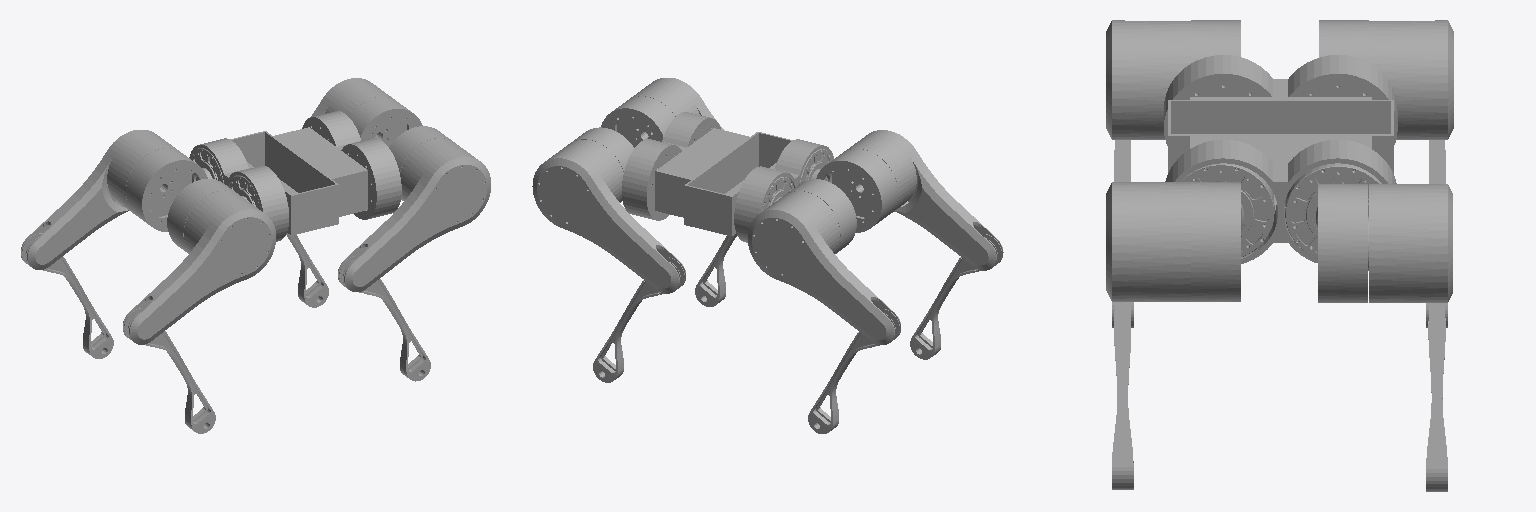
URDF robot description (vakra):
<?xml version="1.0" encoding="utf-8"?>
<!-- =================================================================================== -->
<!-- |    This document was autogenerated by xacro from vakra.xacro                    | -->
<!-- |    EDITING THIS FILE BY HAND IS NOT RECOMMENDED                                 | -->
<!-- =================================================================================== -->
<robot name="vakra">
  <material name="silver">
    <color rgba="0.700 0.700 0.700 1.000"/>
  </material>
  <transmission name="rff_tran">
    <type>transmission_interface/SimpleTransmission</type>
    <joint name="rff">
      <hardwareInterface>hardware_interface/EffortJointInterface</hardwareInterface>
    </joint>
    <actuator name="rff_actr">
      <hardwareInterface>hardware_interface/EffortJointInterface</hardwareInterface>
      <mechanicalReduction>1</mechanicalReduction>
    </actuator>
  </transmission>
  <transmission name="rfs_tran">
    <type>transmission_interface/SimpleTransmission</type>
    <joint name="rfs">
      <hardwareInterface>hardware_interface/EffortJointInterface</hardwareInterface>
    </joint>
    <actuator name="rfs_actr">
      <hardwareInterface>hardware_interface/EffortJointInterface</hardwareInterface>
      <mechanicalReduction>1</mechanicalReduction>
    </actuator>
  </transmission>
  <transmission name="lff_tran">
    <type>transmission_interface/SimpleTransmission</type>
    <joint name="lff">
      <hardwareInterface>hardware_interface/EffortJointInterface</hardwareInterface>
    </joint>
    <actuator name="lff_actr">
      <hardwareInterface>hardware_interface/EffortJointInterface</hardwareInterface>
      <mechanicalReduction>1</mechanicalReduction>
    </actuator>
  </transmission>
  <transmission name="lfs_tran">
    <type>transmission_interface/SimpleTransmission</type>
    <joint name="lfs">
      <hardwareInterface>hardware_interface/EffortJointInterface</hardwareInterface>
    </joint>
    <actuator name="lfs_actr">
      <hardwareInterface>hardware_interface/EffortJointInterface</hardwareInterface>
      <mechanicalReduction>1</mechanicalReduction>
    </actuator>
  </transmission>
  <transmission name="rbf_tran">
    <type>transmission_interface/SimpleTransmission</type>
    <joint name="rbf">
      <hardwareInterface>hardware_interface/EffortJointInterface</hardwareInterface>
    </joint>
    <actuator name="rbf_actr">
      <hardwareInterface>hardware_interface/EffortJointInterface</hardwareInterface>
      <mechanicalReduction>1</mechanicalReduction>
    </actuator>
  </transmission>
  <transmission name="rbs_tran">
    <type>transmission_interface/SimpleTransmission</type>
    <joint name="rbs">
      <hardwareInterface>hardware_interface/EffortJointInterface</hardwareInterface>
    </joint>
    <actuator name="rbs_actr">
      <hardwareInterface>hardware_interface/EffortJointInterface</hardwareInterface>
      <mechanicalReduction>1</mechanicalReduction>
    </actuator>
  </transmission>
  <transmission name="lbf_tran">
    <type>transmission_interface/SimpleTransmission</type>
    <joint name="lbf">
      <hardwareInterface>hardware_interface/EffortJointInterface</hardwareInterface>
    </joint>
    <actuator name="lbf_actr">
      <hardwareInterface>hardware_interface/EffortJointInterface</hardwareInterface>
      <mechanicalReduction>1</mechanicalReduction>
    </actuator>
  </transmission>
  <transmission name="lbs_tran">
    <type>transmission_interface/SimpleTransmission</type>
    <joint name="lbs">
      <hardwareInterface>hardware_interface/EffortJointInterface</hardwareInterface>
    </joint>
    <actuator name="lbs_actr">
      <hardwareInterface>hardware_interface/EffortJointInterface</hardwareInterface>
      <mechanicalReduction>1</mechanicalReduction>
    </actuator>
  </transmission>
  <transmission name="lft_tran">
    <type>transmission_interface/SimpleTransmission</type>
    <joint name="lft">
      <hardwareInterface>hardware_interface/EffortJointInterface</hardwareInterface>
    </joint>
    <actuator name="lft_actr">
      <hardwareInterface>hardware_interface/EffortJointInterface</hardwareInterface>
      <mechanicalReduction>1</mechanicalReduction>
    </actuator>
  </transmission>
  <transmission name="lbt_tran">
    <type>transmission_interface/SimpleTransmission</type>
    <joint name="lbt">
      <hardwareInterface>hardware_interface/EffortJointInterface</hardwareInterface>
    </joint>
    <actuator name="lbt_actr">
      <hardwareInterface>hardware_interface/EffortJointInterface</hardwareInterface>
      <mechanicalReduction>1</mechanicalReduction>
    </actuator>
  </transmission>
  <transmission name="rbt_tran">
    <type>transmission_interface/SimpleTransmission</type>
    <joint name="rbt">
      <hardwareInterface>hardware_interface/EffortJointInterface</hardwareInterface>
    </joint>
    <actuator name="rbt_actr">
      <hardwareInterface>hardware_interface/EffortJointInterface</hardwareInterface>
      <mechanicalReduction>1</mechanicalReduction>
    </actuator>
  </transmission>
  <transmission name="rft_tran">
    <type>transmission_interface/SimpleTransmission</type>
    <joint name="rft">
      <hardwareInterface>hardware_interface/EffortJointInterface</hardwareInterface>
    </joint>
    <actuator name="rft_actr">
      <hardwareInterface>hardware_interface/EffortJointInterface</hardwareInterface>
      <mechanicalReduction>1</mechanicalReduction>
    </actuator>
  </transmission>
  <gazebo reference="base_link">
    <material>Gazebo/Black</material>
  </gazebo>
  <gazebo reference="femur1__1__1">
    <material>Gazebo/Blue</material>
  </gazebo>
  <gazebo reference="Shoulder1__1__1">
    <material>Gazebo/Green</material>
  </gazebo>
  <gazebo reference="femur1_1">
    <material>Gazebo/Blue</material>
  </gazebo>
  <gazebo reference="Shoulder1_1">
    <material>Gazebo/Green</material>
  </gazebo>
  <gazebo reference="femur2__1__1">
    <material>Gazebo/Blue</material>
  </gazebo>
  <gazebo reference="Shoulder2__1__1">
    <material>Gazebo/Green</material>
  </gazebo>
  <gazebo reference="femur2_1">
    <material>Gazebo/Blue</material>
  </gazebo>
  <gazebo reference="Shoulder2_1">
    <material>Gazebo/Green</material>
  </gazebo>
  <gazebo reference="tibia1_1">
    <material>Gazebo/Silver</material>
  </gazebo>
  <gazebo reference="tibia2_1">
    <material>Gazebo/Silver</material>
  </gazebo>
  <gazebo reference="tibia2__1__1">
    <material>Gazebo/Silver</material>
  </gazebo>
  <gazebo reference="tibia1__1__1">
    <material>Gazebo/Silver</material>
  </gazebo>
  <gazebo reference="base_link">
    <mu1>0.5</mu1>
    <mu2>0.5</mu2>
    <selfCollide>true</selfCollide>
    <gravity>true</gravity>
  </gazebo>
  <gazebo reference="femur1__1__1">
    <mu1>0.5</mu1>
    <mu2>0.5</mu2>
    <selfCollide>true</selfCollide>
  </gazebo>
  <gazebo reference="Shoulder1__1__1">
    <mu1>0.5</mu1>
    <mu2>0.5</mu2>
    <selfCollide>true</selfCollide>
  </gazebo>
  <gazebo reference="femur1_1">
    <mu1>0.5</mu1>
    <mu2>0.5</mu2>
    <selfCollide>true</selfCollide>
  </gazebo>
  <gazebo reference="Shoulder1_1">
    <mu1>0.5</mu1>
    <mu2>0.5</mu2>
    <selfCollide>true</selfCollide>
  </gazebo>
  <gazebo reference="femur2__1__1">
    <mu1>0.5</mu1>
    <mu2>0.5</mu2>
    <selfCollide>true</selfCollide>
  </gazebo>
  <gazebo reference="Shoulder2__1__1">
    <mu1>0.5</mu1>
    <mu2>0.5</mu2>
    <selfCollide>true</selfCollide>
  </gazebo>
  <gazebo reference="femur2_1">
    <mu1>0.5</mu1>
    <mu2>0.5</mu2>
    <selfCollide>true</selfCollide>
  </gazebo>
  <gazebo reference="Shoulder2_1">
    <mu1>0.5</mu1>
    <mu2>0.5</mu2>
    <selfCollide>true</selfCollide>
  </gazebo>
  <gazebo reference="tibia1_1">
    <mu1>200</mu1>
    <mu2>200</mu2>
    <selfCollide>true</selfCollide>
  </gazebo>
  <gazebo reference="tibia2_1">
    <mu1>200</mu1>
    <mu2>200</mu2>
    <selfCollide>true</selfCollide>
  </gazebo>
  <gazebo reference="tibia2__1__1">
    <mu1>200</mu1>
    <mu2>200</mu2>
    <selfCollide>true</selfCollide>
  </gazebo>
  <gazebo reference="tibia1__1__1">
    <mu1>200</mu1>
    <mu2>200</mu2>
    <selfCollide>true</selfCollide>
  </gazebo>
  <gazebo>
    <plugin filename="libgazebo_ros_control.so" name="control">
      <robotNamespace>/vakra</robotNamespace>
    </plugin>
  </gazebo>
  <link name="base_link">
    <inertial>
      <origin rpy="0 0 0" xyz="0.01651650630396252 -0.039387864784774386 0.2781670624228419"/>
      <mass value="2.379664751421723"/>
      <inertia ixx="0.011528" ixy="-3.2e-05" ixz="-0.000126" iyy="0.017554" iyz="4e-06" izz="0.024797"/>
    </inertial>
    <visual>
      <origin rpy="0 0 0" xyz="0 0 0"/>
      <geometry>
        <mesh filename="package://vakra_description/meshes/base_link.stl" scale="0.001 0.001 0.001"/>
      </geometry>
      <material name="silver"/>
    </visual>
    <collision>
      <origin rpy="0 0 0" xyz="0 0 0"/>
      <geometry>
        <mesh filename="package://vakra_description/meshes/base_link.stl" scale="0.001 0.001 0.001"/>
      </geometry>
    </collision>
  </link>
  <link name="femur1__1__1">
    <inertial>
      <origin rpy="0 0 0" xyz="-0.024333693559157793 -0.05106487776966842 -0.014045576694845352"/>
      <mass value="1.0823056277172005"/>
      <inertia ixx="0.00269" ixy="-0.000566" ixz="-0.001355" iyy="0.004988" iyz="-0.000327" izz="0.004254"/>
    </inertial>
    <visual>
      <origin rpy="0 0 0" xyz="-0.19536 0.112739 -0.280574"/>
      <geometry>
        <mesh filename="package://vakra_description/meshes/femur1__1__1.stl" scale="0.001 0.001 0.001"/>
      </geometry>
      <material name="silver"/>
    </visual>
    <collision>
      <origin rpy="0 0 0" xyz="-0.19536 0.112739 -0.280574"/>
      <geometry>
        <mesh filename="package://vakra_description/meshes/femur1__1__1.stl" scale="0.001 0.001 0.001"/>
      </geometry>
    </collision>
  </link>
  <link name="Shoulder1__1__1">
    <inertial>
      <origin rpy="0 0 0" xyz="0.05523873032400456 -0.003595547119901385 4.5635929407650266e-07"/>
      <mass value="0.29461843575635877"/>
      <inertia ixx="0.000442" ixy="-7e-06" ixz="0.0" iyy="0.000747" iyz="0.0" izz="0.000451"/>
    </inertial>
    <visual>
      <origin rpy="0 0 0" xyz="-0.14036 0.094239 -0.280574"/>
      <geometry>
        <mesh filename="package://vakra_description/meshes/Shoulder1__1__1.stl" scale="0.001 0.001 0.001"/>
      </geometry>
      <material name="silver"/>
    </visual>
    <collision>
      <origin rpy="0 0 0" xyz="-0.14036 0.094239 -0.280574"/>
      <geometry>
        <mesh filename="package://vakra_description/meshes/Shoulder1__1__1.stl" scale="0.001 0.001 0.001"/>
      </geometry>
    </collision>
  </link>
  <link name="femur1_1">
    <inertial>
      <origin rpy="0 0 0" xyz="-0.02433104362846289 0.05106454360242882 -0.014050736146083265"/>
      <mass value="1.0823056277172005"/>
      <inertia ixx="0.00269" ixy="0.000566" ixz="-0.001355" iyy="0.004988" iyz="0.000327" izz="0.004254"/>
    </inertial>
    <visual>
      <origin rpy="0 0 0" xyz="-0.195398 -0.032057 -0.279121"/>
      <geometry>
        <mesh filename="package://vakra_description/meshes/femur1_1.stl" scale="0.001 0.001 0.001"/>
      </geometry>
      <material name="silver"/>
    </visual>
    <collision>
      <origin rpy="0 0 0" xyz="-0.195398 -0.032057 -0.279121"/>
      <geometry>
        <mesh filename="package://vakra_description/meshes/femur1_1.stl" scale="0.001 0.001 0.001"/>
      </geometry>
    </collision>
  </link>
  <link name="Shoulder1_1">
    <inertial>
      <origin rpy="0 0 0" xyz="0.05523855175032666 0.003595212952661162 9.8001096682232e-08"/>
      <mass value="0.29461843575635877"/>
      <inertia ixx="0.000442" ixy="7e-06" ixz="-0.0" iyy="0.000747" iyz="0.0" izz="0.000451"/>
    </inertial>
    <visual>
      <origin rpy="0 0 0" xyz="-0.140398 -0.013557 -0.279121"/>
      <geometry>
        <mesh filename="package://vakra_description/meshes/Shoulder1_1.stl" scale="0.001 0.001 0.001"/>
      </geometry>
      <material name="silver"/>
    </visual>
    <collision>
      <origin rpy="0 0 0" xyz="-0.140398 -0.013557 -0.279121"/>
      <geometry>
        <mesh filename="package://vakra_description/meshes/Shoulder1_1.stl" scale="0.001 0.001 0.001"/>
      </geometry>
    </collision>
  </link>
  <link name="femur2__1__1">
    <inertial>
      <origin rpy="0 0 0" xyz="-0.024333693559123293 -0.051064877769666894 -0.014045576694855233"/>
      <mass value="1.0823056277172005"/>
      <inertia ixx="0.00269" ixy="-0.000566" ixz="-0.001355" iyy="0.004988" iyz="-0.000327" izz="0.004254"/>
    </inertial>
    <visual>
      <origin rpy="0 0 0" xyz="0.156378 0.112739 -0.280574"/>
      <geometry>
        <mesh filename="package://vakra_description/meshes/femur2__1__1.stl" scale="0.001 0.001 0.001"/>
      </geometry>
      <material name="silver"/>
    </visual>
    <collision>
      <origin rpy="0 0 0" xyz="0.156378 0.112739 -0.280574"/>
      <geometry>
        <mesh filename="package://vakra_description/meshes/femur2__1__1.stl" scale="0.001 0.001 0.001"/>
      </geometry>
    </collision>
  </link>
  <link name="Shoulder2__1__1">
    <inertial>
      <origin rpy="0 0 0" xyz="-0.05523808741171643 -0.0035955471198991784 3.583390427164268e-07"/>
      <mass value="0.29461843575635877"/>
      <inertia ixx="0.000442" ixy="7e-06" ixz="0.0" iyy="0.000747" iyz="-0.0" izz="0.000451"/>
    </inertial>
    <visual>
      <origin rpy="0 0 0" xyz="0.101378 0.094239 -0.280574"/>
      <geometry>
        <mesh filename="package://vakra_description/meshes/Shoulder2__1__1.stl" scale="0.001 0.001 0.001"/>
      </geometry>
      <material name="silver"/>
    </visual>
    <collision>
      <origin rpy="0 0 0" xyz="0.101378 0.094239 -0.280574"/>
      <geometry>
        <mesh filename="package://vakra_description/meshes/Shoulder2__1__1.stl" scale="0.001 0.001 0.001"/>
      </geometry>
    </collision>
  </link>
  <link name="femur2_1">
    <inertial>
      <origin rpy="0 0 0" xyz="-0.024330865054751655 0.051064106620084426 -0.014050475808138785"/>
      <mass value="1.0823056277172005"/>
      <inertia ixx="0.00269" ixy="0.000566" ixz="-0.001355" iyy="0.004988" iyz="0.000327" izz="0.004254"/>
    </inertial>
    <visual>
      <origin rpy="0 0 0" xyz="0.156378 -0.032261 -0.280574"/>
      <geometry>
        <mesh filename="package://vakra_description/meshes/femur2_1.stl" scale="0.001 0.001 0.001"/>
      </geometry>
      <material name="silver"/>
    </visual>
    <collision>
      <origin rpy="0 0 0" xyz="0.156378 -0.032261 -0.280574"/>
      <geometry>
        <mesh filename="package://vakra_description/meshes/femur2_1.stl" scale="0.001 0.001 0.001"/>
      </geometry>
    </collision>
  </link>
  <link name="Shoulder2_1">
    <inertial>
      <origin rpy="0 0 0" xyz="-0.05523808741171665 0.003594775970317118 4.5635927997667025e-07"/>
      <mass value="0.29461843575635877"/>
      <inertia ixx="0.000442" ixy="-7e-06" ixz="-0.0" iyy="0.000747" iyz="-0.0" izz="0.000451"/>
    </inertial>
    <visual>
      <origin rpy="0 0 0" xyz="0.101378 -0.013761 -0.280574"/>
      <geometry>
        <mesh filename="package://vakra_description/meshes/Shoulder2_1.stl" scale="0.001 0.001 0.001"/>
      </geometry>
      <material name="silver"/>
    </visual>
    <collision>
      <origin rpy="0 0 0" xyz="0.101378 -0.013761 -0.280574"/>
      <geometry>
        <mesh filename="package://vakra_description/meshes/Shoulder2_1.stl" scale="0.001 0.001 0.001"/>
      </geometry>
    </collision>
  </link>
  <link name="tibia1_1">
    <inertial>
      <origin rpy="0 0 0" xyz="0.05857634983569892 -0.005999928812024283 -0.09016228024464047"/>
      <mass value="0.147939411240314034"/>
      <inertia ixx="0.000245" ixy="-0.0" ixz="0.000131" iyy="0.000323" iyz="0.0" izz="8e-05"/>
    </inertial>
    <visual>
      <origin rpy="0 0 0" xyz="-0.035183 -0.110057 -0.186621"/>
      <geometry>
        <mesh filename="package://vakra_description/meshes/tibia1_1.stl" scale="0.001 0.001 0.001"/>
      </geometry>
      <material name="silver"/>
    </visual>
    <collision>
      <origin rpy="0 0 0" xyz="-0.035183 -0.110057 -0.186621"/>
      <geometry>
        <mesh filename="package://vakra_description/meshes/tibia1_1.stl" scale="0.001 0.001 0.001"/>
      </geometry>
    </collision>
  </link>
  <link name="tibia2_1">
    <inertial>
      <origin rpy="0 0 0" xyz="0.05857552840935376 -0.0060003657943698 -0.09016201990659753"/>
      <mass value="0.14793941124031404"/>
      <inertia ixx="0.000245" ixy="-0.0" ixz="0.000131" iyy="0.000323" iyz="0.0" izz="8e-05"/>
    </inertial>
    <visual>
      <origin rpy="0 0 0" xyz="0.316592 -0.110261 -0.188074"/>
      <geometry>
        <mesh filename="package://vakra_description/meshes/tibia2_1.stl" scale="0.001 0.001 0.001"/>
      </geometry>
      <material name="silver"/>
    </visual>
    <collision>
      <origin rpy="0 0 0" xyz="0.316592 -0.110261 -0.188074"/>
      <geometry>
        <mesh filename="package://vakra_description/meshes/tibia2_1.stl" scale="0.001 0.001 0.001"/>
      </geometry>
    </collision>
  </link>
  <link name="tibia2__1__1">
    <inertial>
      <origin rpy="0 0 0" xyz="0.058575528409412825 -0.006000365794369661 -0.0901620199066957"/>
      <mass value="0.14793941124031404"/>
      <inertia ixx="0.000245" ixy="-0.0" ixz="0.000131" iyy="0.000323" iyz="0.0" izz="8e-05"/>
    </inertial>
    <visual>
      <origin rpy="0 0 0" xyz="0.316592 0.178739 -0.188074"/>
      <geometry>
        <mesh filename="package://vakra_description/meshes/tibia2__1__1.stl" scale="0.001 0.001 0.001"/>
      </geometry>
      <material name="silver"/>
    </visual>
    <collision>
      <origin rpy="0 0 0" xyz="0.316592 0.178739 -0.188074"/>
      <geometry>
        <mesh filename="package://vakra_description/meshes/tibia2__1__1.stl" scale="0.001 0.001 0.001"/>
      </geometry>
    </collision>
  </link>
  <link name="tibia1__1__1">
    <inertial>
      <origin rpy="0 0 0" xyz="0.05857552840939162 -0.006000365794366358 -0.09016201990669247"/>
      <mass value="0.14793941124031403"/>
      <inertia ixx="0.000245" ixy="-0.0" ixz="0.000131" iyy="0.000323" iyz="0.0" izz="8e-05"/>
    </inertial>
    <visual>
      <origin rpy="0 0 0" xyz="-0.035146 0.178739 -0.188074"/>
      <geometry>
        <mesh filename="package://vakra_description/meshes/tibia1__1__1.stl" scale="0.001 0.001 0.001"/>
      </geometry>
      <material name="silver"/>
    </visual>
    <collision>
      <origin rpy="0 0 0" xyz="-0.035146 0.178739 -0.188074"/>
      <geometry>
        <mesh filename="package://vakra_description/meshes/tibia1__1__1.stl" scale="0.001 0.001 0.001"/>
      </geometry>
    </collision>
  </link>
  <joint name="rff" type="revolute">
    <origin rpy="0 0 0" xyz="0.055 -0.0185 0.0"/>
    <parent link="Shoulder1__1__1"/>
    <child link="femur1__1__1"/>
    <axis xyz="0.0 1.0 0.0"/>
    <limit effort="15.0" lower="-2.0" upper="2.0" velocity="2.0"/>
    <dynamics damping="0.7"/>
  </joint>
  <joint name="rfs" type="revolute">
    <origin rpy="0 0 0" xyz="0.14036 -0.094239 0.280574"/>
    <parent link="base_link"/>
    <child link="Shoulder1__1__1"/>
    <axis xyz="1.0 -0.0 -0.0"/>
    <limit effort="15.0" lower="-2.0" upper="2.0" velocity="2.0"/>
    <dynamics damping="0.7"/>
  </joint>
  <joint name="lff" type="revolute">
    <origin rpy="0 0 0" xyz="0.055 0.0185 0.0"/>
    <parent link="Shoulder1_1"/>
    <child link="femur1_1"/>
    <axis xyz="-0.0 -2.0 -0.0"/>
    <limit effort="15.0" lower="-2.0" upper="2.0" velocity="2.0"/>
    <dynamics damping="0.7"/>
  </joint>
  <joint name="lfs" type="revolute">
    <origin rpy="0 0 0" xyz="0.140398 0.013557 0.279121"/>
    <parent link="base_link"/>
    <child link="Shoulder1_1"/>
    <axis xyz="1.0 0.0 -0.0"/>
    <limit effort="15.0" lower="-2.0" upper="2.0" velocity="2.0"/>
    <dynamics damping="0.7"/>
  </joint>
  <joint name="rbf" type="revolute">
    <origin rpy="0 0 0" xyz="-0.055 -0.0185 0.0"/>
    <parent link="Shoulder2__1__1"/>
    <child link="femur2__1__1"/>
    <axis xyz="0.0 1.0 -0.0"/>
    <limit effort="15.0" lower="-2.0" upper="2.0" velocity="2.0"/>
    <dynamics damping="0.7"/>
  </joint>
  <joint name="rbs" type="revolute">
    <origin rpy="0 0 0" xyz="-0.101378 -0.094239 0.280574"/>
    <parent link="base_link"/>
    <child link="Shoulder2__1__1"/>
    <axis xyz="1.0 0.0 -0.0"/>
    <limit effort="15.0" lower="-2.0" upper="2.0" velocity="2.0"/>
    <dynamics damping="0.7"/>
  </joint>
  <joint name="lbf" type="revolute">
    <origin rpy="0 0 0" xyz="-0.055 0.0185 0.0"/>
    <parent link="Shoulder2_1"/>
    <child link="femur2_1"/>
    <axis xyz="0.0 -2.0 0.0"/>
    <limit effort="15.0" lower="-2.0" upper="2.0" velocity="2.0"/>
    <dynamics damping="0.7"/>
  </joint>
  <joint name="lbs" type="revolute">
    <origin rpy="0 0 0" xyz="-0.101378 0.013761 0.280574"/>
    <parent link="base_link"/>
    <child link="Shoulder2_1"/>
    <axis xyz="1.0 0.0 -0.0"/>
    <limit effort="15.0" lower="-2.0" upper="2.0" velocity="2.0"/>
    <dynamics damping="0.7"/>
  </joint>
  <joint name="lft" type="revolute">
    <origin rpy="0 0 0" xyz="-0.160215 0.078 -0.0925"/>
    <parent link="femur1_1"/>
    <child link="tibia1_1"/>
    <axis xyz="0.0 -2.0 -0.0"/>
    <limit effort="15.0" lower="-2.0" upper="2.0" velocity="2.0"/>
    <dynamics damping="0.7"/>
  </joint>
  <joint name="lbt" type="revolute">
    <origin rpy="0 0 0" xyz="-0.160214 0.078 -0.0925"/>
    <parent link="femur2_1"/>
    <child link="tibia2_1"/>
    <axis xyz="0.0 -2.0 -0.0"/>
    <limit effort="15.0" lower="-2.0" upper="2.0" velocity="2.0"/>
    <dynamics damping="0.7"/>
  </joint>
  <joint name="rbt" type="revolute">
    <origin rpy="0 0 0" xyz="-0.160214 -0.066 -0.0925"/>
    <parent link="femur2__1__1"/>
    <child link="tibia2__1__1"/>
    <axis xyz="0.0 -2.0 0.0"/>
    <limit effort="15.0" lower="-2.0" upper="2.0" velocity="2.0"/>
    <dynamics damping="0.7"/>
  </joint>
  <joint name="rft" type="revolute">
    <origin rpy="0 0 0" xyz="-0.160214 -0.066 -0.0925"/>
    <parent link="femur1__1__1"/>
    <child link="tibia1__1__1"/>
    <axis xyz="-0.0 -2.0 -0.0"/>
    <limit effort="15.0" lower="-2.0" upper="2.0" velocity="2.0"/>
    <dynamics damping="0.7"/>
  </joint>
</robot>

--- Facts derived from the render (not from the file) ---
Views: 3 orthographic renders of the robot side by side, from view 1: azimuth 30°, elevation 25°; view 2: azimuth 150°, elevation 25°; view 3: azimuth 270°, elevation 25°.
Model vakra with 13 links and 12 joints (12 revolute), rooted at base_link, posed all joints at 0.
Links seen in each view (by area): view 1: base_link, femur2__1__1, femur1__1__1, femur2_1, Shoulder2_1, femur1_1, tibia2__1__1, tibia2_1, tibia1__1__1, Shoulder1_1, Shoulder2__1__1, tibia1_1 (+1 smaller); view 2: base_link, femur2_1, femur1_1, femur2__1__1, Shoulder2__1__1, femur1__1__1, tibia1_1, tibia2__1__1, tibia2_1, Shoulder1__1__1, Shoulder2_1, tibia1__1__1 (+1 smaller); view 3: base_link, femur1__1__1, femur1_1, femur2__1__1, femur2_1, Shoulder1__1__1, Shoulder1_1, tibia1_1, tibia1__1__1, Shoulder2__1__1, Shoulder2_1, tibia2_1 (+1 smaller).
Boxes of the visible links, x1=… form: base_link: x1=189, y1=111, x2=401, y2=241; femur2__1__1: x1=123, y1=191, x2=275, y2=344; femur1__1__1: x1=338, y1=138, x2=490, y2=291; femur2_1: x1=21, y1=130, x2=191, y2=269; Shoulder2_1: x1=126, y1=148, x2=211, y2=231; femur1_1: x1=302, y1=78, x2=406, y2=146; tibia2__1__1: x1=124, y1=308, x2=215, y2=433; tibia2_1: x1=22, y1=233, x2=113, y2=358; tibia1__1__1: x1=339, y1=256, x2=430, y2=381; Shoulder1_1: x1=349, y1=97, x2=422, y2=140; Shoulder2__1__1: x1=167, y1=179, x2=245, y2=253; tibia1_1: x1=286, y1=233, x2=328, y2=307; base_link: x1=622, y1=112, x2=833, y2=242; femur2_1: x1=748, y1=191, x2=900, y2=344; femur1_1: x1=532, y1=140, x2=685, y2=293; femur2__1__1: x1=832, y1=130, x2=1003, y2=270; Shoulder2__1__1: x1=812, y1=149, x2=897, y2=232; femur1__1__1: x1=617, y1=78, x2=724, y2=147; tibia1_1: x1=593, y1=257, x2=684, y2=382; tibia2__1__1: x1=910, y1=234, x2=1001, y2=359; tibia2_1: x1=808, y1=309, x2=899, y2=433; Shoulder1__1__1: x1=601, y1=96, x2=674, y2=141; Shoulder2_1: x1=777, y1=179, x2=856, y2=253; tibia1__1__1: x1=695, y1=233, x2=736, y2=306; base_link: x1=1164, y1=55, x2=1397, y2=263; femur1__1__1: x1=1106, y1=182, x2=1190, y2=301; femur1_1: x1=1368, y1=184, x2=1452, y2=302; femur2__1__1: x1=1106, y1=20, x2=1190, y2=139; femur2_1: x1=1369, y1=20, x2=1453, y2=139; Shoulder1__1__1: x1=1191, y1=182, x2=1243, y2=301; Shoulder1_1: x1=1316, y1=184, x2=1367, y2=302; tibia1_1: x1=1426, y1=303, x2=1447, y2=491; tibia1__1__1: x1=1112, y1=302, x2=1133, y2=489; Shoulder2__1__1: x1=1191, y1=20, x2=1240, y2=62; Shoulder2_1: x1=1319, y1=20, x2=1368, y2=62; tibia2_1: x1=1426, y1=140, x2=1447, y2=327.
Size in the robot's own frame: 0.592 by 0.319 by 0.3356 metres.
Meshes: 13 distinct files referenced, 13 mesh visuals loaded (13 binary STL).